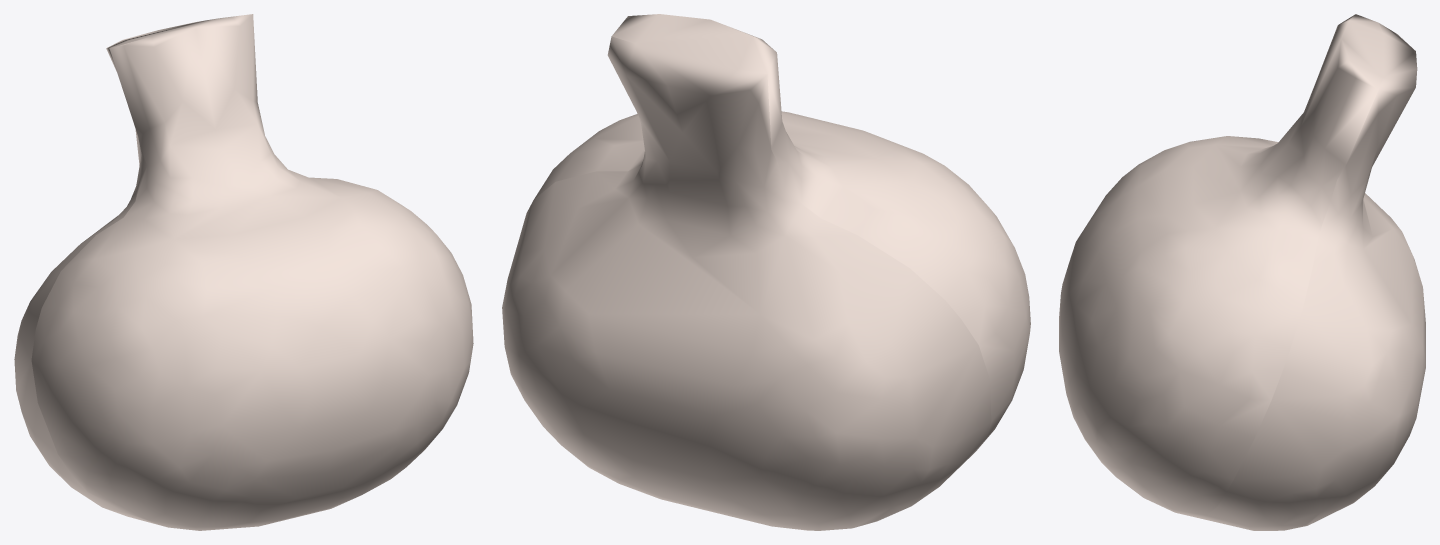
The model's file is zanatomy-pituitary.glb.
3 views of the same model, side by side, from view 1: azimuth 30°, elevation 25°; view 2: azimuth 150°, elevation 25°; view 3: azimuth 270°, elevation 25° (orthographic). The views are drawn at different scales.
Visible parts, largest first — view 1: zb_pituitary; view 2: zb_pituitary; view 3: zb_pituitary.
Part boxes in pixels (x1,y1,x2,y2): zb_pituitary: [14, 14, 473, 530]; zb_pituitary: [502, 14, 1030, 530]; zb_pituitary: [1059, 14, 1425, 530].
Size of the model in its own units: 0.0119 by 0.0126 by 0.00914.
